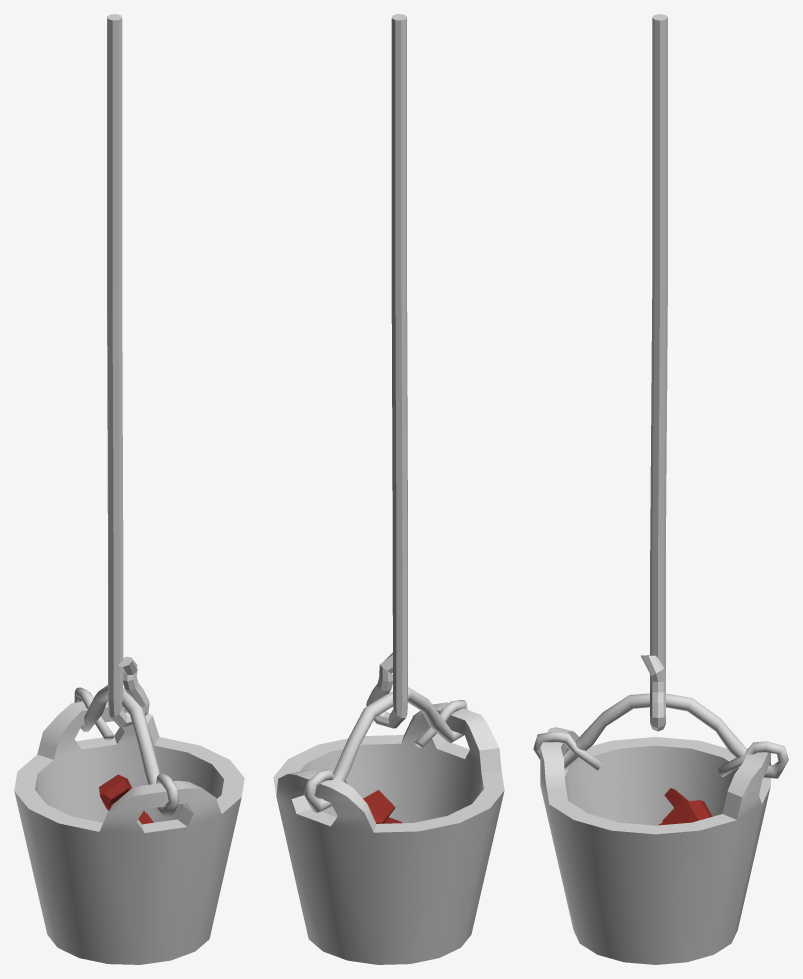
File: things.fbx
3 renders of one model, left to right at view 1: azimuth 30°, elevation 25°; view 2: azimuth 150°, elevation 25°; view 3: azimuth 270°, elevation 25°, orthographic.
Visible parts, largest first — view 1: Cylinder, Cylinder.002, Cylinder.001, Cube; view 2: Cylinder, Cylinder.002, Cylinder.001, Cube; view 3: Cylinder, Cylinder.002, Cylinder.001, Cube.
Boxes of the visible parts, x1=… form: Cylinder: x1=14, y1=701, x2=244, y2=964; Cylinder.002: x1=107, y1=14, x2=149, y2=727; Cylinder.001: x1=74, y1=685, x2=179, y2=817; Cube: x1=99, y1=774, x2=153, y2=824; Cylinder: x1=273, y1=702, x2=504, y2=964; Cylinder.002: x1=366, y1=14, x2=408, y2=728; Cylinder.001: x1=304, y1=687, x2=467, y2=812; Cube: x1=363, y1=790, x2=402, y2=823; Cylinder: x1=540, y1=727, x2=770, y2=964; Cylinder.002: x1=640, y1=14, x2=667, y2=731; Cylinder.001: x1=533, y1=693, x2=788, y2=778; Cube: x1=654, y1=788, x2=712, y2=825.
Bounding box in the file's own units: 58.28 × 253 × 64.6.
